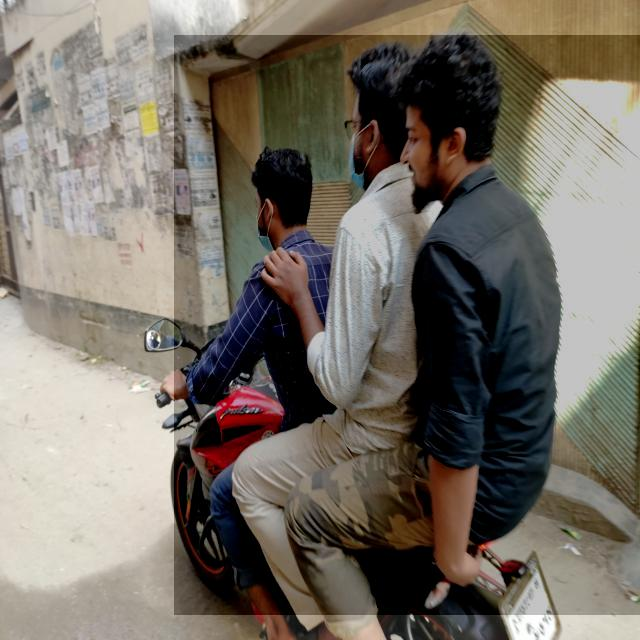Overloading: (174, 35, 640, 615)
